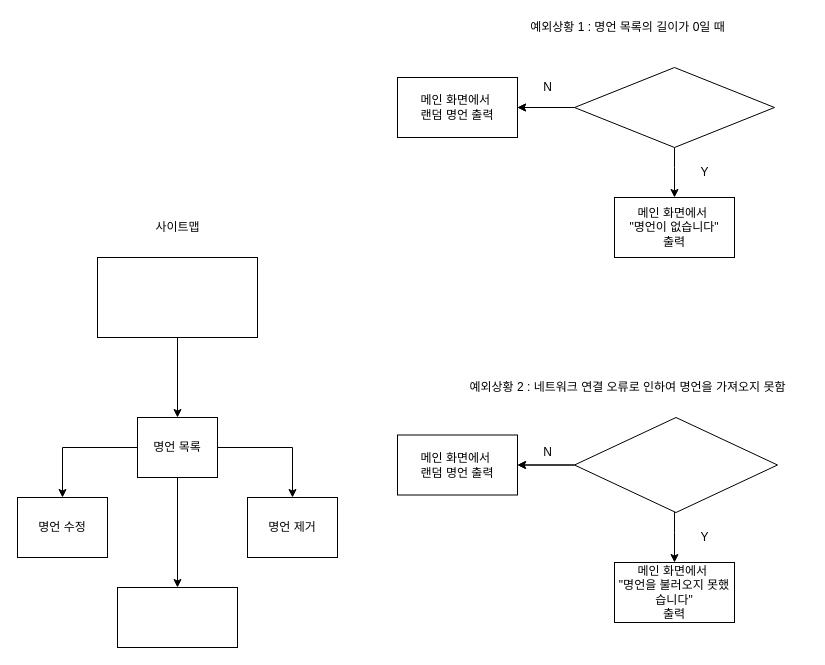
The diagram is 825 pixels wide and 665 high, and some of its shapes have lost their labels. The shapes that lost their labels are listed below. From the top down, each one's box as (x1, y1, x2, y2) in pixels, then its label:
(574, 66, 774, 148): 명언 목록의 길이가 0인가?
(96, 256, 258, 338): 메인 화면 (랜덤 명언 띄우기)
(574, 416, 778, 512): 네트워크 오류로 명언을 가져오지 못했는가?
(116, 586, 238, 648): 명언 추가
